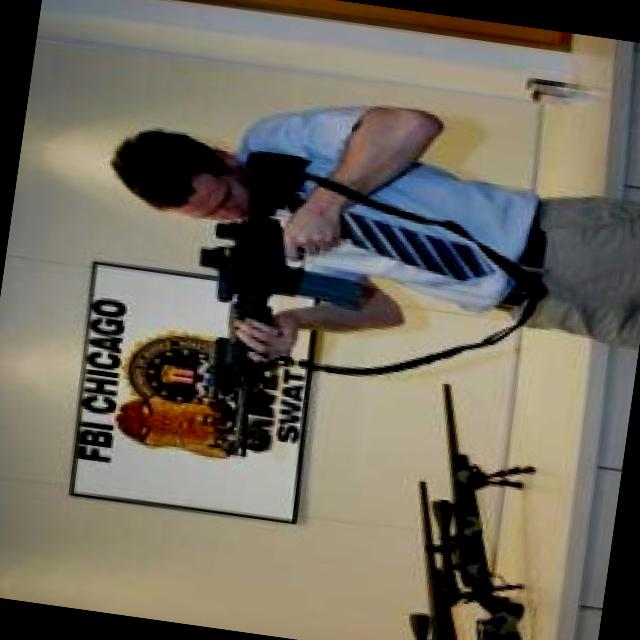long weapon: (165, 122, 358, 473)
